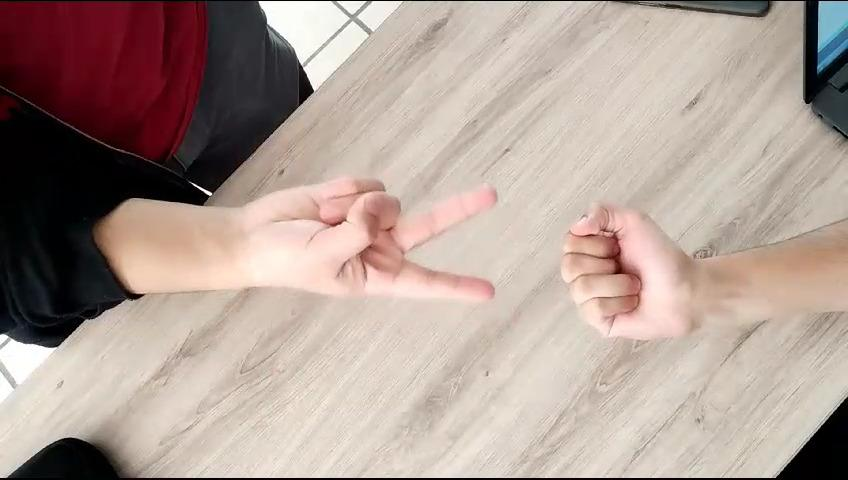Scissor: (234, 148, 523, 354)
Stone: (547, 195, 706, 372)
